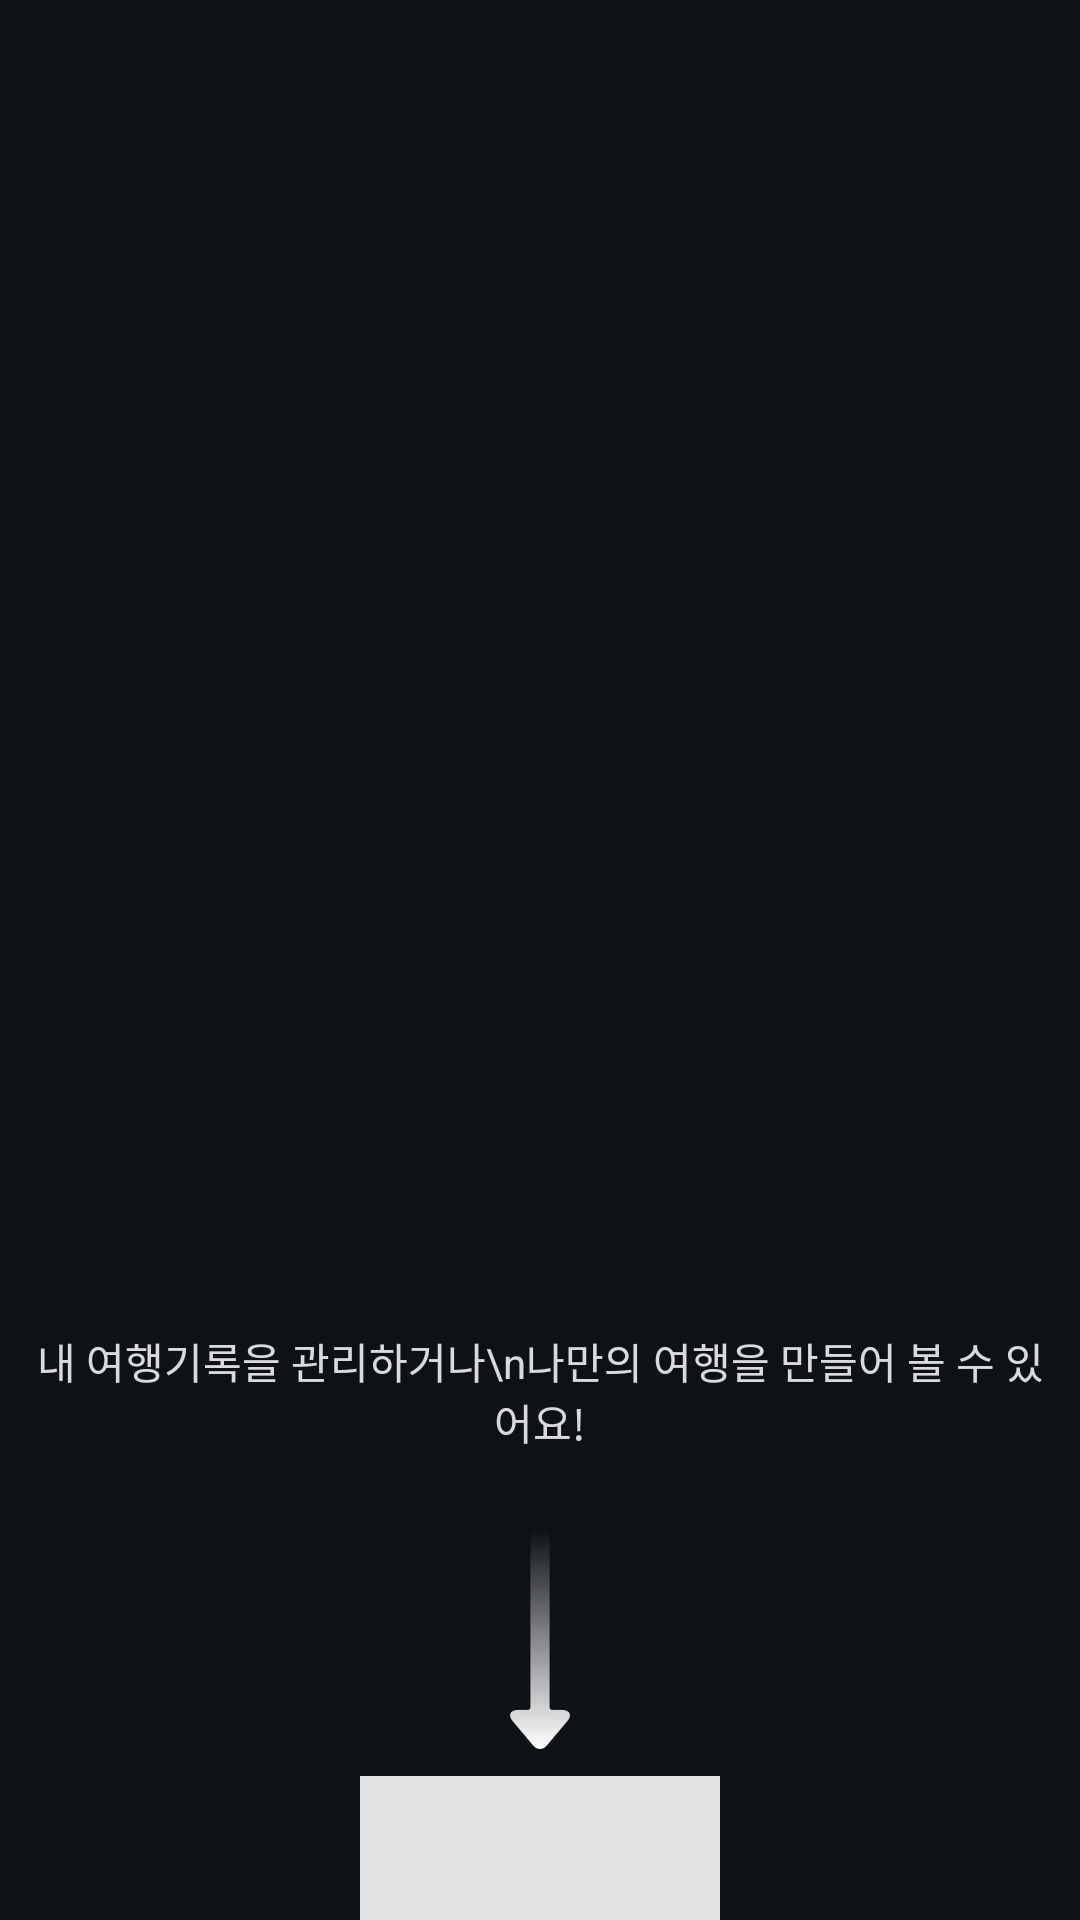

Icons on this 1080px x 1920px Android screen, each with its box as (x1, y1, x2, y2):
coachmark: (510, 1552, 570, 1749)
